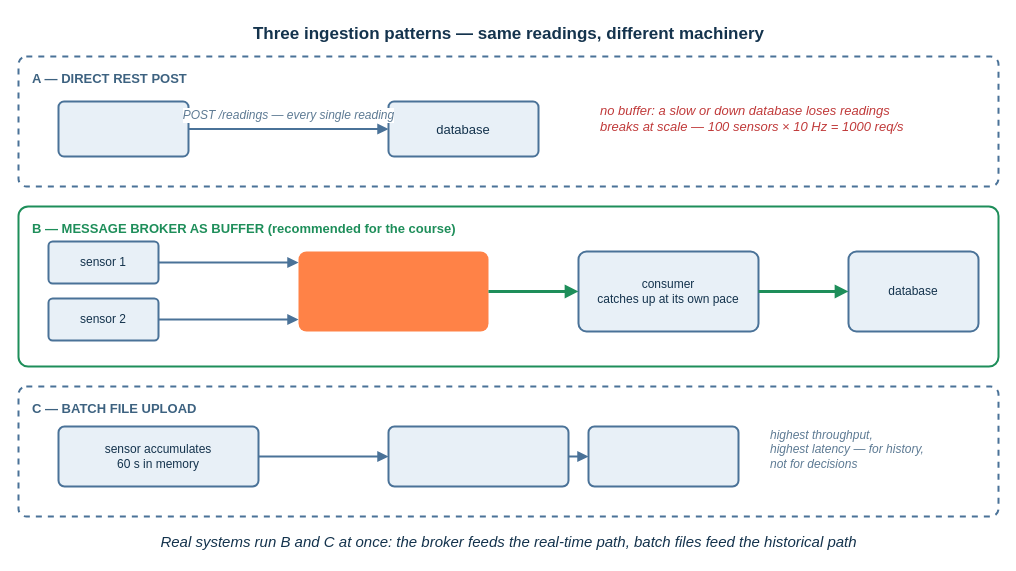
The diagram is 1016 pixels wide and 571 high, and some of its shapes have lost their labels. Each missing label, with the centre of its shape:
"batch loader" belongs at point (663, 456).
"BROKER (MQTT / Kafka) the shock absorber" belongs at point (393, 291).
"one Parquet file per minute" belongs at point (478, 456).
"sensor" belongs at point (123, 128).
